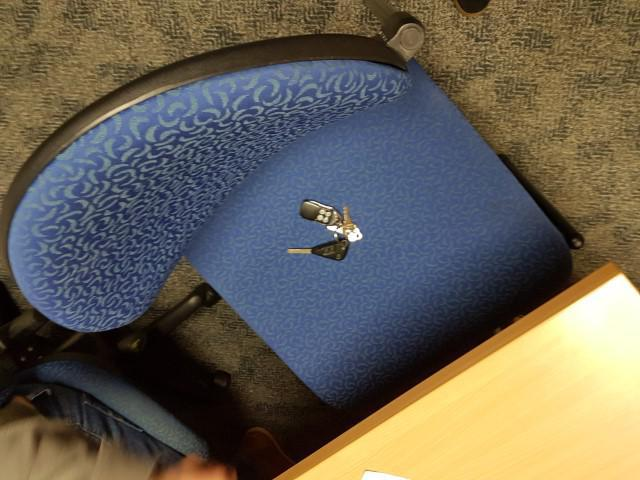key: (287, 239, 349, 261)
